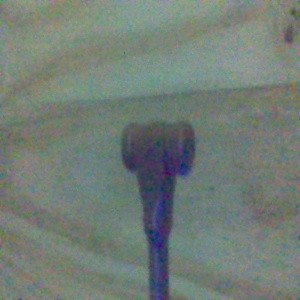palu: (121, 118, 197, 300)
